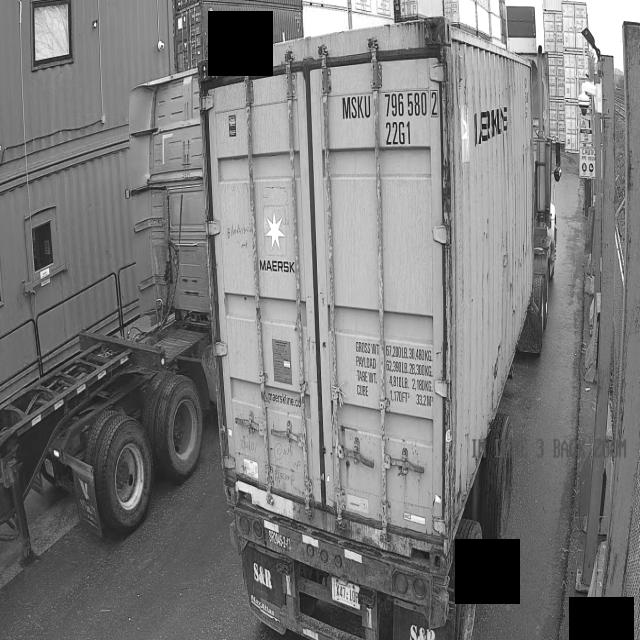container_company_logo: (465, 108, 522, 149)
container_number: (330, 57, 435, 193)
other_container_info: (0, 72, 220, 535), (350, 303, 444, 431)
truck_with_container: (199, 17, 562, 640), (196, 17, 554, 640)
